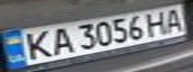0: (93, 18, 115, 47)
3: (72, 21, 96, 51)
5: (109, 16, 133, 44)
6: (124, 12, 151, 41)
A: (45, 25, 75, 56), (160, 6, 190, 34)
H: (142, 8, 172, 36)
K: (18, 28, 57, 61)
